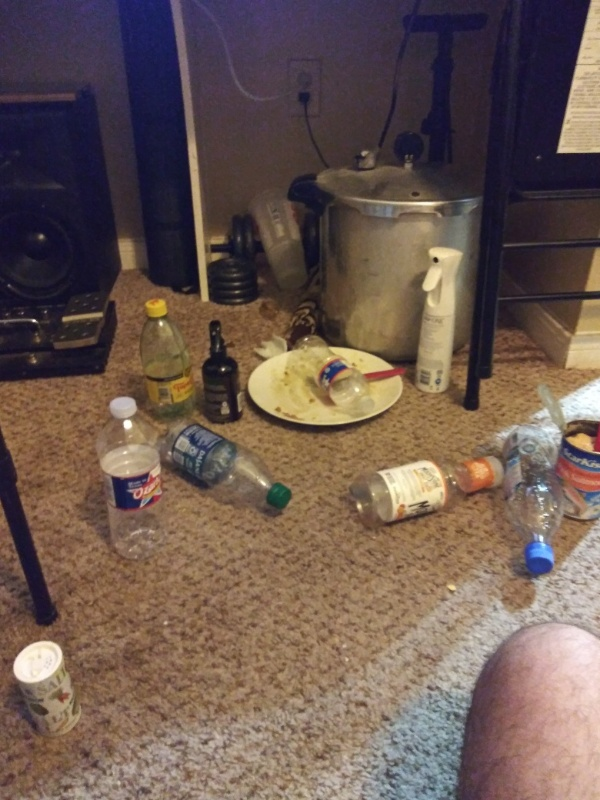bottle: (157, 408, 294, 520), (95, 393, 172, 564), (348, 444, 510, 525), (500, 419, 570, 574), (134, 295, 204, 420), (283, 335, 382, 417)
